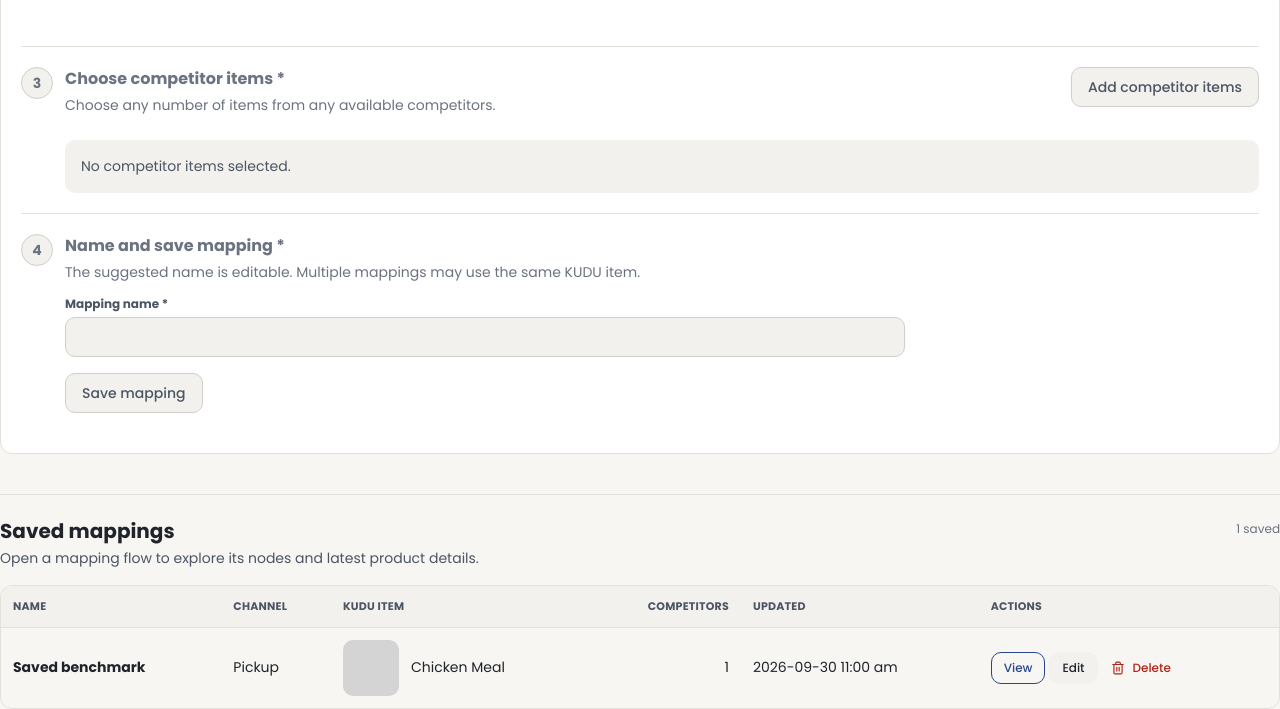
PlaygroundPage › offers View as the primary saved action and deletes only after confirmation
The width and height of the screenshot is (1280, 709).
(page scrolled)
expect the text "Saved benchmark" is shown: met, box [13, 657, 145, 677]
Click the button "Delete" at (1141, 668), box [1102, 658, 1180, 678]
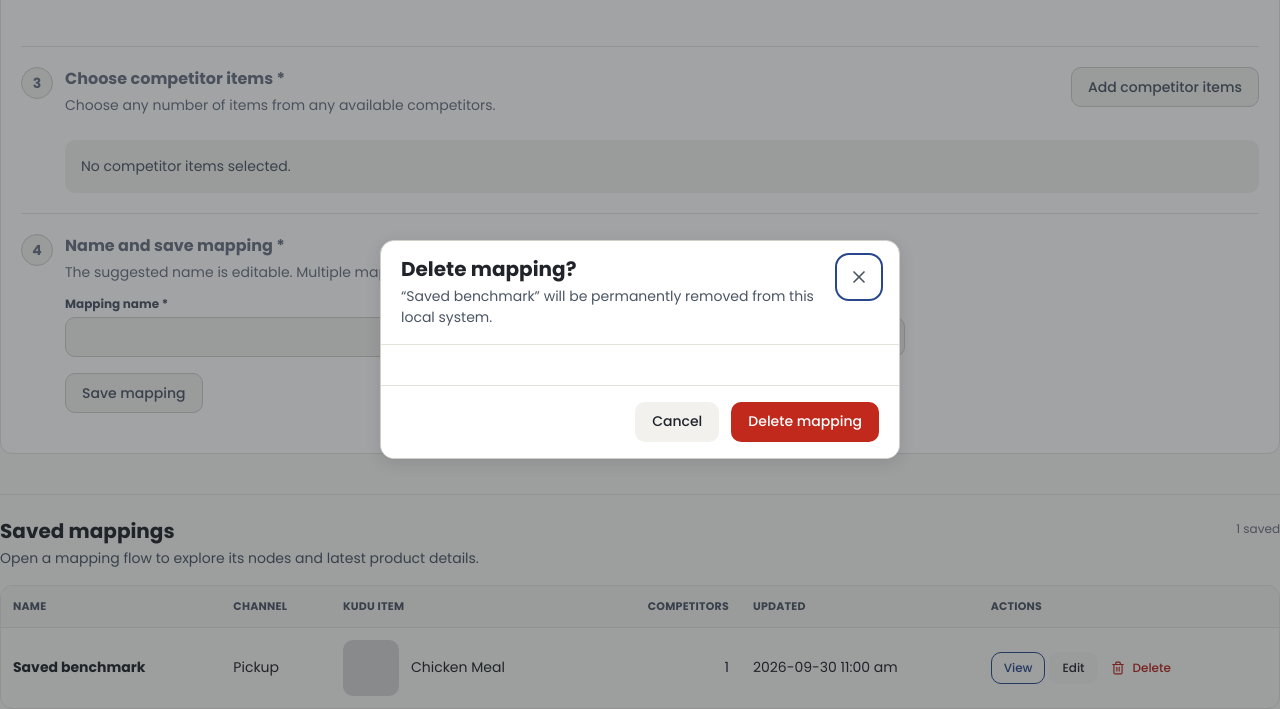
Click the button "Delete mapping" at (805, 422), box [731, 402, 879, 442]
(page scrolled)
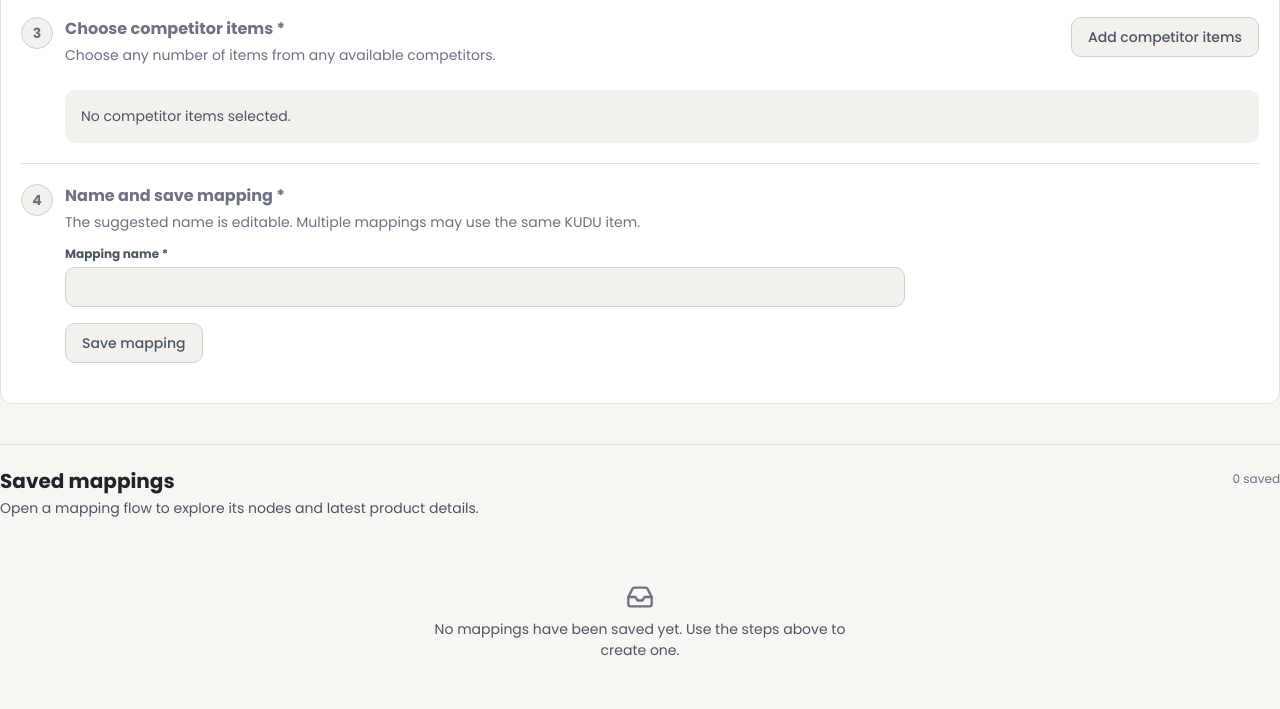
expect the text "No mappings have been saved yet. Use the steps above to create one." is shown: met, box [420, 619, 860, 661]
